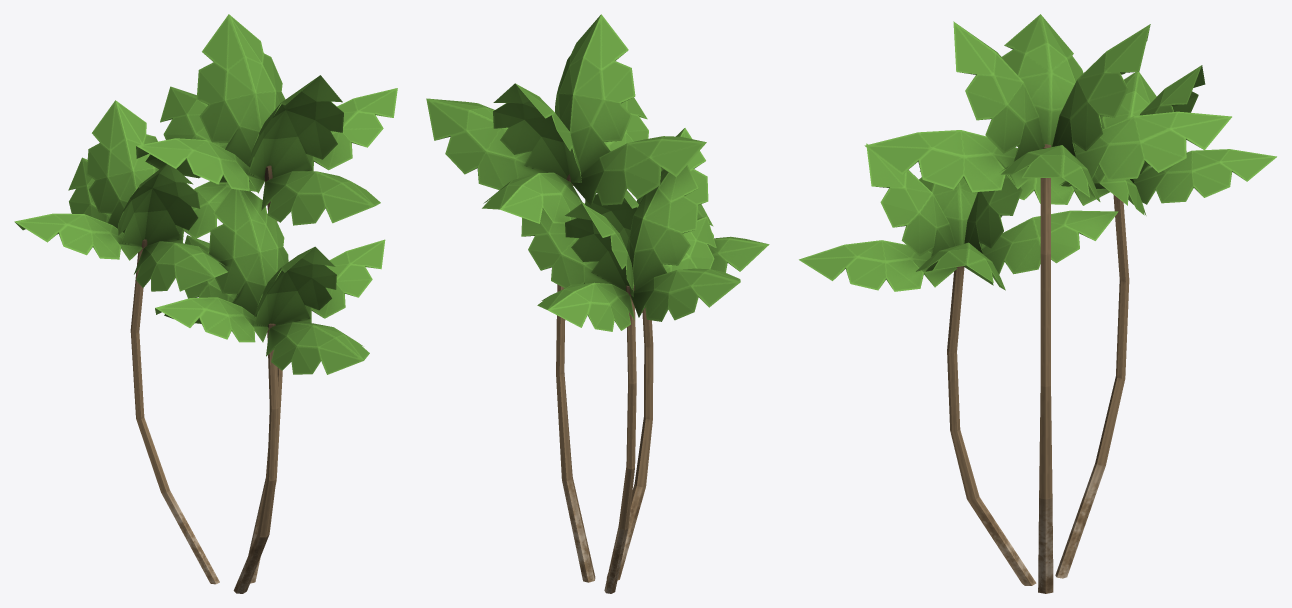
Rendered from 829a16b4-2d9b-4003-a3dd-5defb95aa00e.glb.
3 views of the same model, side by side, from view 1: azimuth 30°, elevation 25°; view 2: azimuth 150°, elevation 25°; view 3: azimuth 270°, elevation 25° (orthographic). The views are drawn at different scales.
Visible parts, largest first — view 1: MacarthurPalmTree_mesh; view 2: MacarthurPalmTree_mesh; view 3: MacarthurPalmTree_mesh.
Part boxes in pixels (left/top/right/bottom): MacarthurPalmTree_mesh: left=14, top=14, right=397, bottom=593; MacarthurPalmTree_mesh: left=426, top=14, right=769, bottom=593; MacarthurPalmTree_mesh: left=799, top=14, right=1276, bottom=593.
Bounding box in the file's own units: 8 × 11.6 × 8.58.
1 material, 1 textured.
